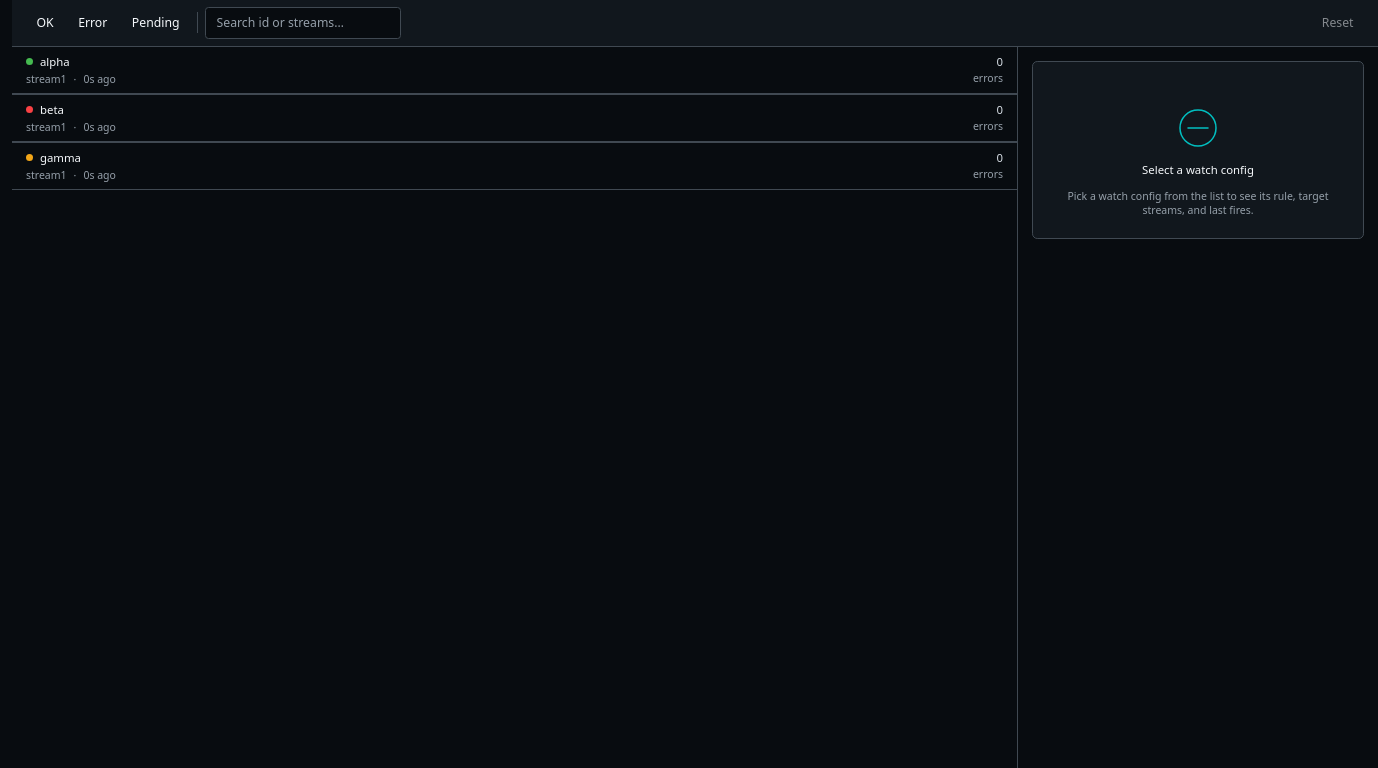
Test: WatchConsole › renders all watch configs and supports status filtering
The width and height of the screenshot is (1378, 768).
Click the button "Error" at (93, 23), box left=68, top=9, right=118, bottom=37
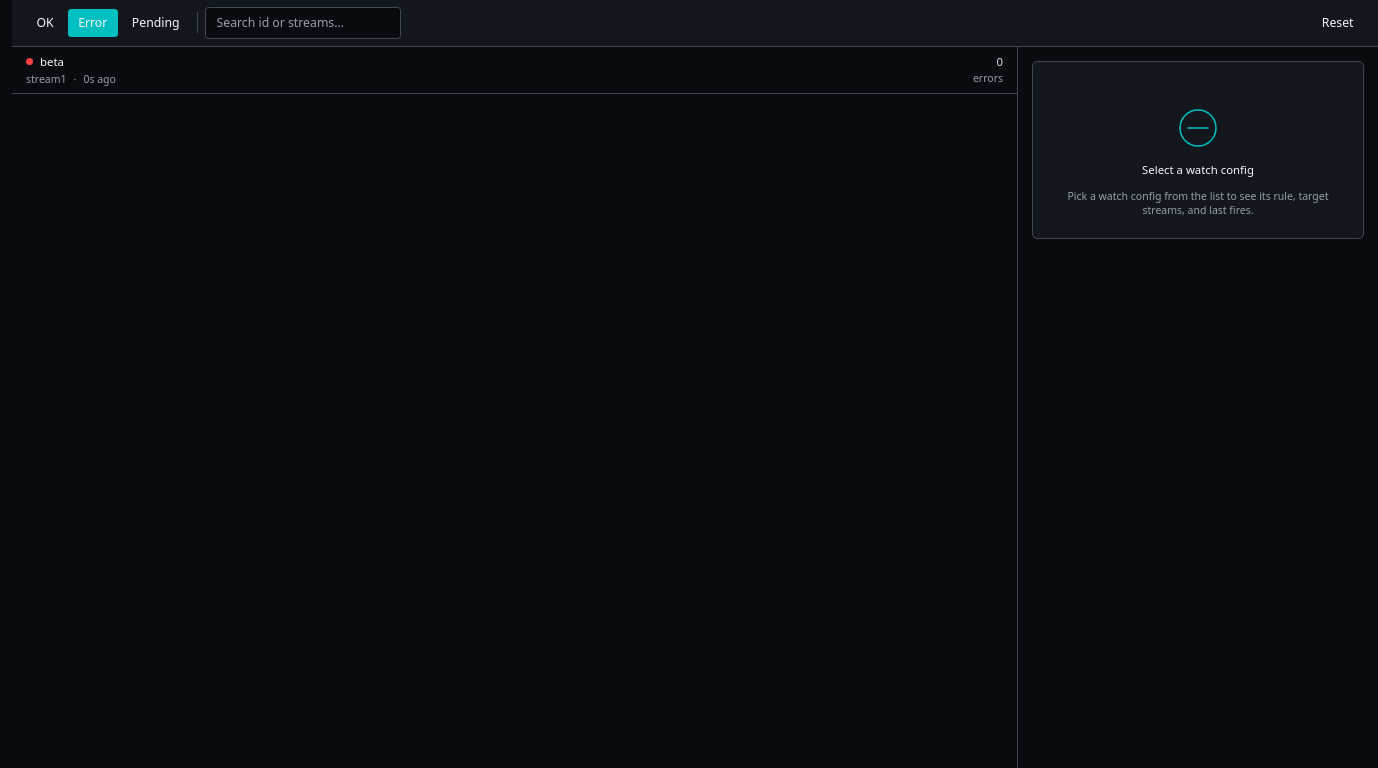
Expected: the text "beta" is shown, left=40, top=54, right=64, bottom=70
Expected: the button "alpha" is gone
Expected: the button "gamma" is gone
